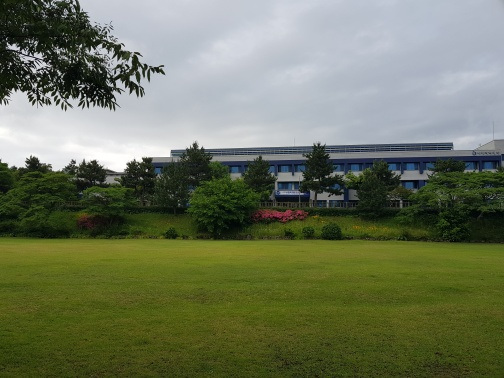College of Social Sciences: (146, 135, 503, 206)
